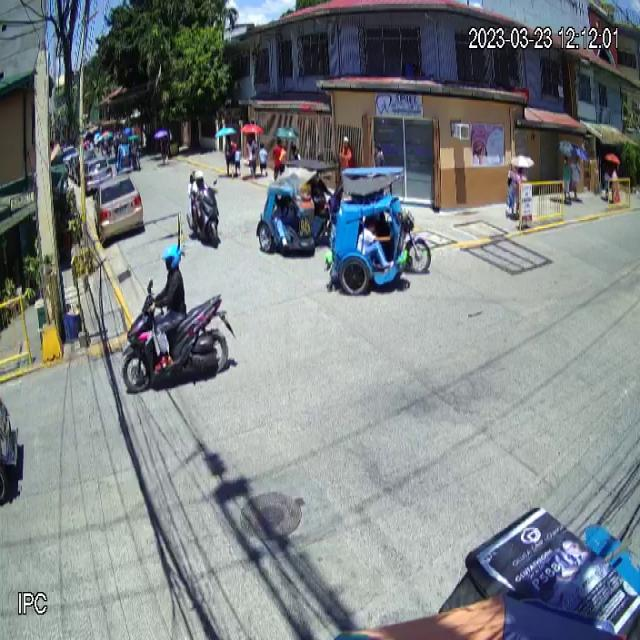Car: (93, 173, 144, 240)
Motorcycle: (120, 278, 236, 394), (187, 178, 219, 249)
Tricycle: (325, 165, 433, 301), (254, 159, 343, 256)
